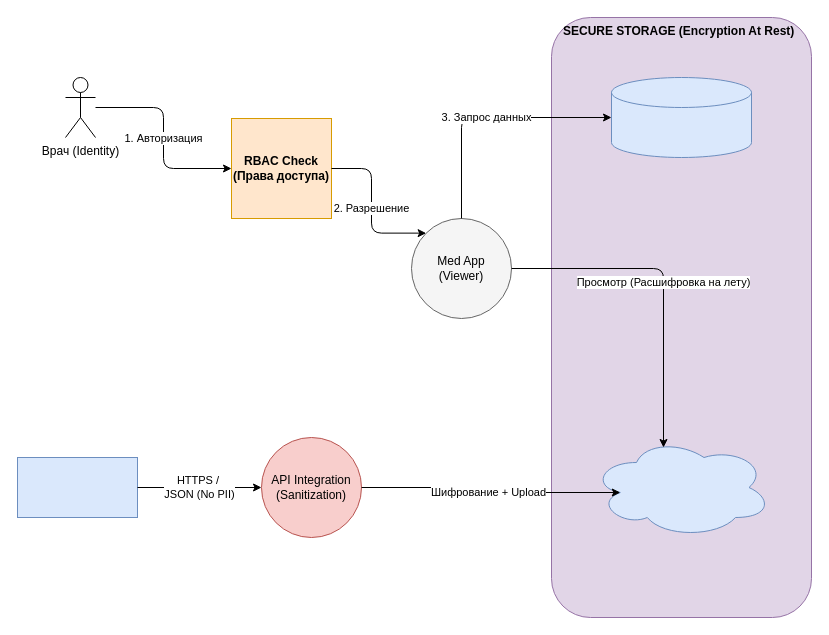
Some shapes in this 829 by 635 pixel diagram are drawn without their labels. The box of each missing label's shape, as (x1, y1, x2, y2) in pixels:
DB: Medical Records [STRICT_PHI]: (610, 76, 752, 158)
S3 Object Storage (Scans/PDF) [STRICT_PHI]: (590, 436, 772, 538)
Лаборатория: (16, 456, 138, 518)
